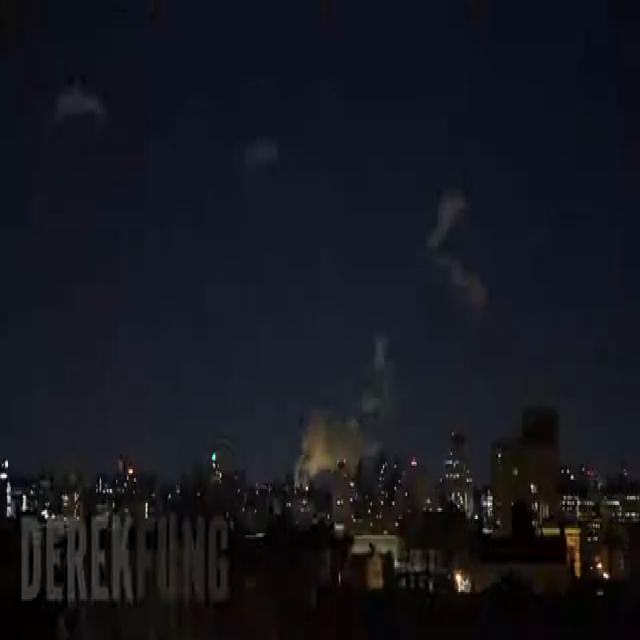smoke: (292, 336, 390, 491), (444, 254, 486, 300), (430, 195, 462, 248)
